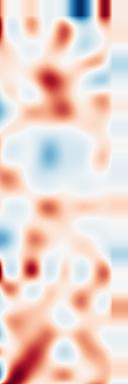filament: (3, 325, 59, 383)
